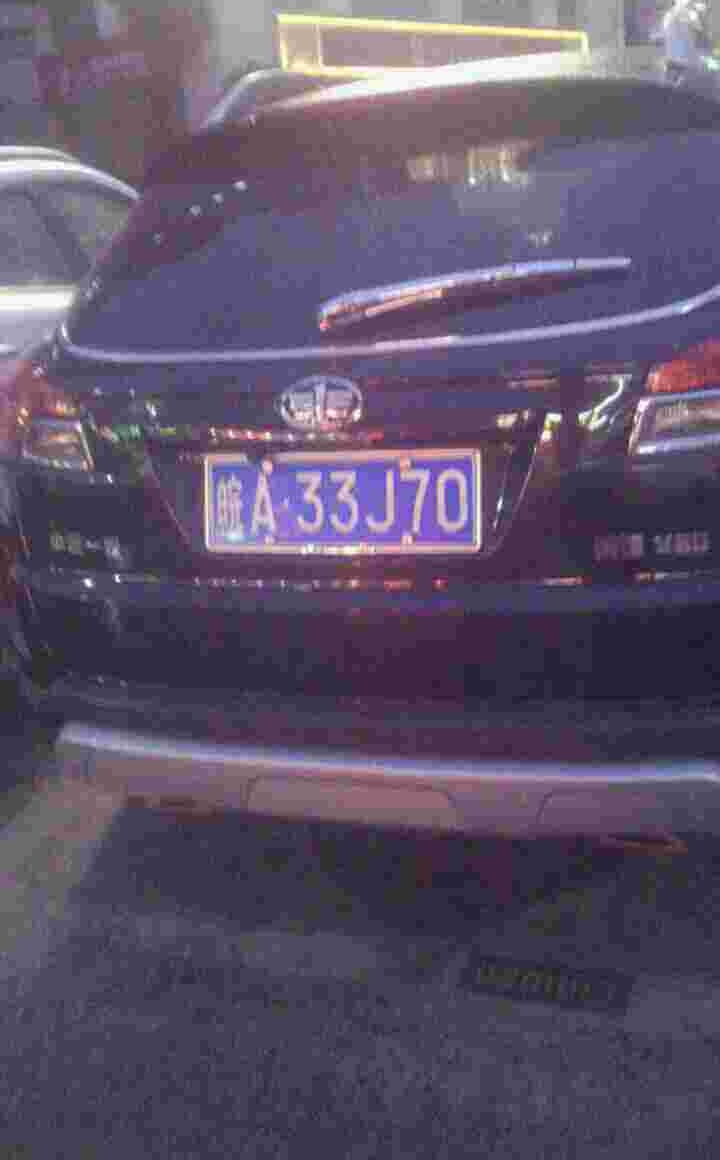license_plate: (209, 464, 486, 546)
